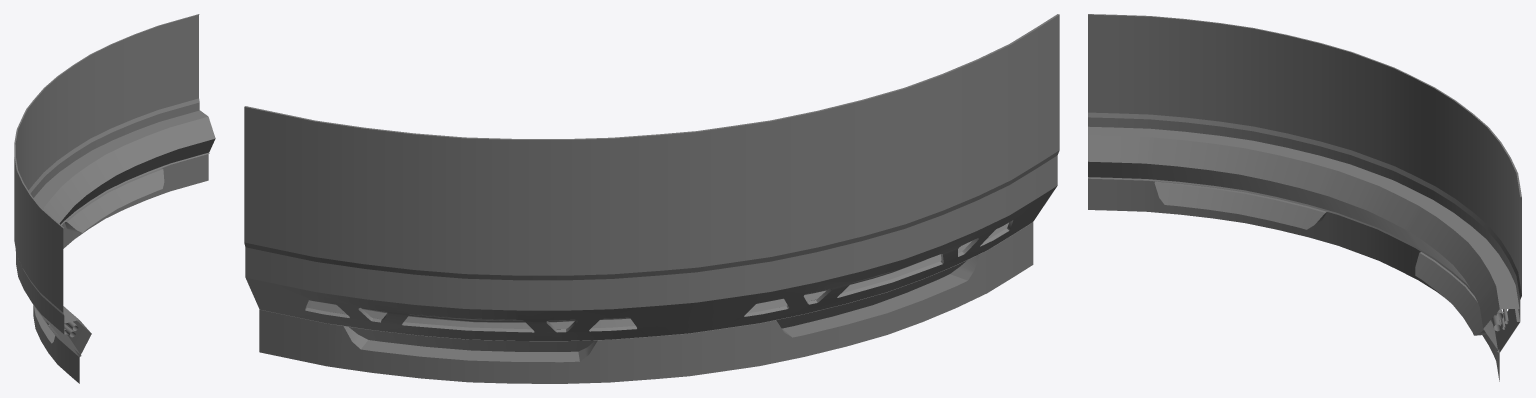
Rendered from q-scifi-mod-topcables-corner-round-outer.glb.
3 views of the same model, side by side, from view 1: azimuth 30°, elevation 25°; view 2: azimuth 150°, elevation 25°; view 3: azimuth 270°, elevation 25° (orthographic). The views are drawn at different scales.
Parts seen in each view (by area): view 1: TopCables_Corner_Round_Outer; view 2: TopCables_Corner_Round_Outer; view 3: TopCables_Corner_Round_Outer.
Boxes of the visible parts, bbox=[...] form: TopCables_Corner_Round_Outer: bbox=[14, 14, 215, 383]; TopCables_Corner_Round_Outer: bbox=[244, 14, 1059, 383]; TopCables_Corner_Round_Outer: bbox=[1088, 14, 1521, 381].
Bounding box in the file's own units: 4.22 × 2 × 4.22.
Materials: 4 (4 with a texture image).
